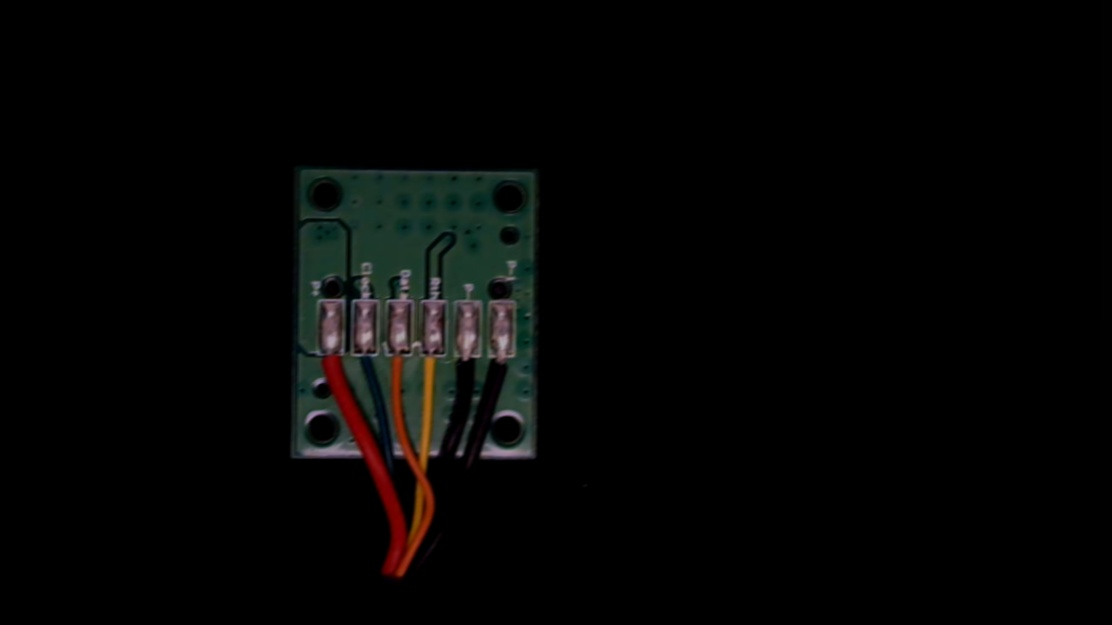Black: (454, 339, 483, 390)
Black1: (489, 339, 516, 392)
Green: (350, 338, 380, 388)
Orange: (384, 338, 413, 397)
Red: (318, 336, 347, 395)
Yellow: (421, 340, 448, 395)
